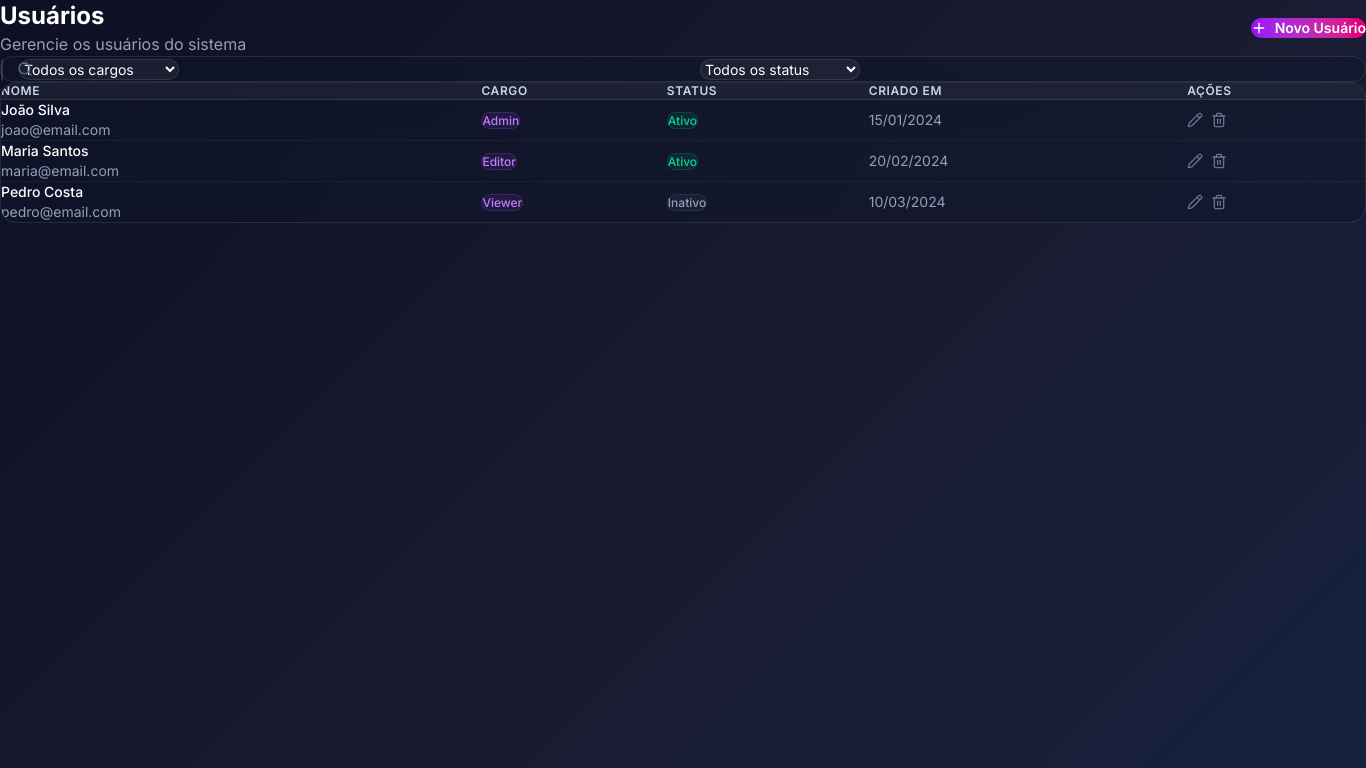
UsersPage › can cancel delete action
The image size is (1366, 768).
Expected: the text "João Silva" is shown, 1,101 -> 70,118
Click the button named "excluir": (1219, 120) 1211,112 -> 1227,128
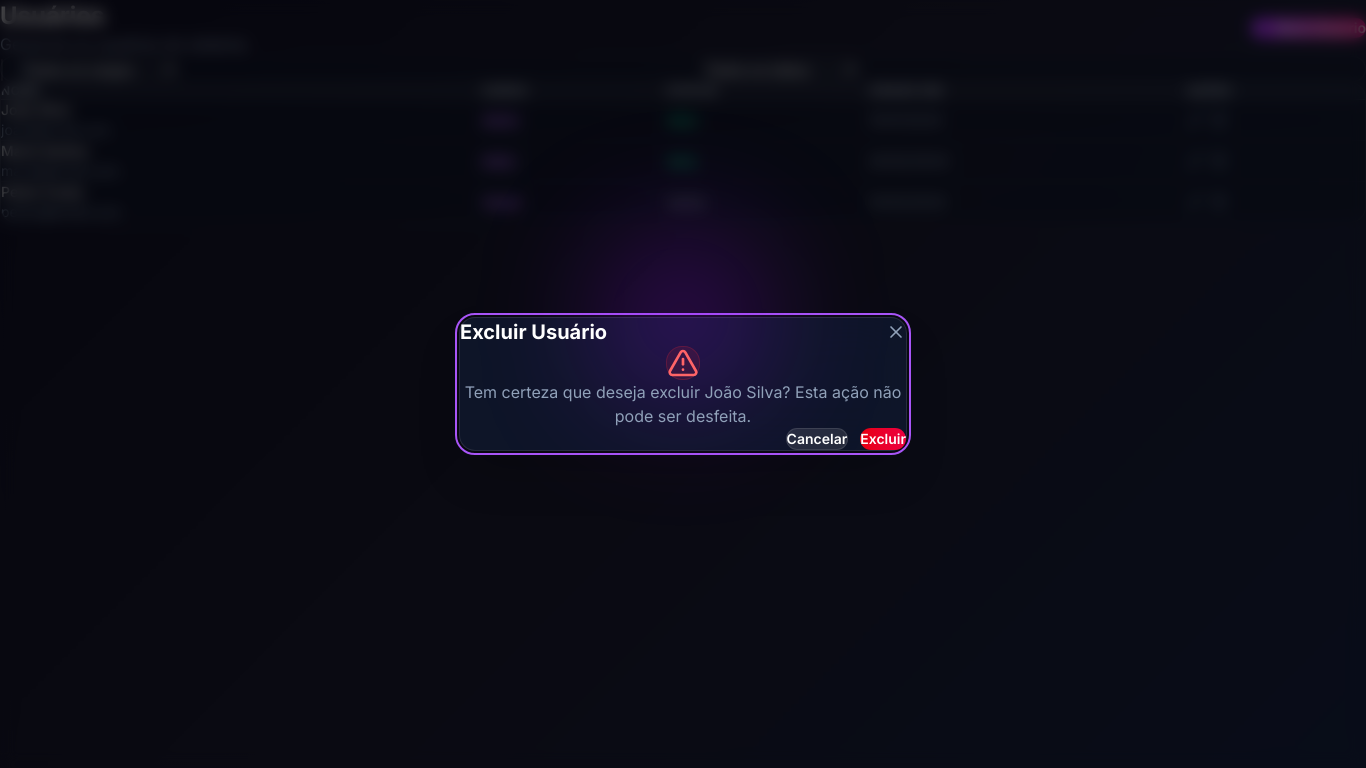
Expected: the heading "Excluir Usuário" is shown, 460,318 -> 607,346
Click the button "Cancelar": (817, 439) 786,428 -> 848,450
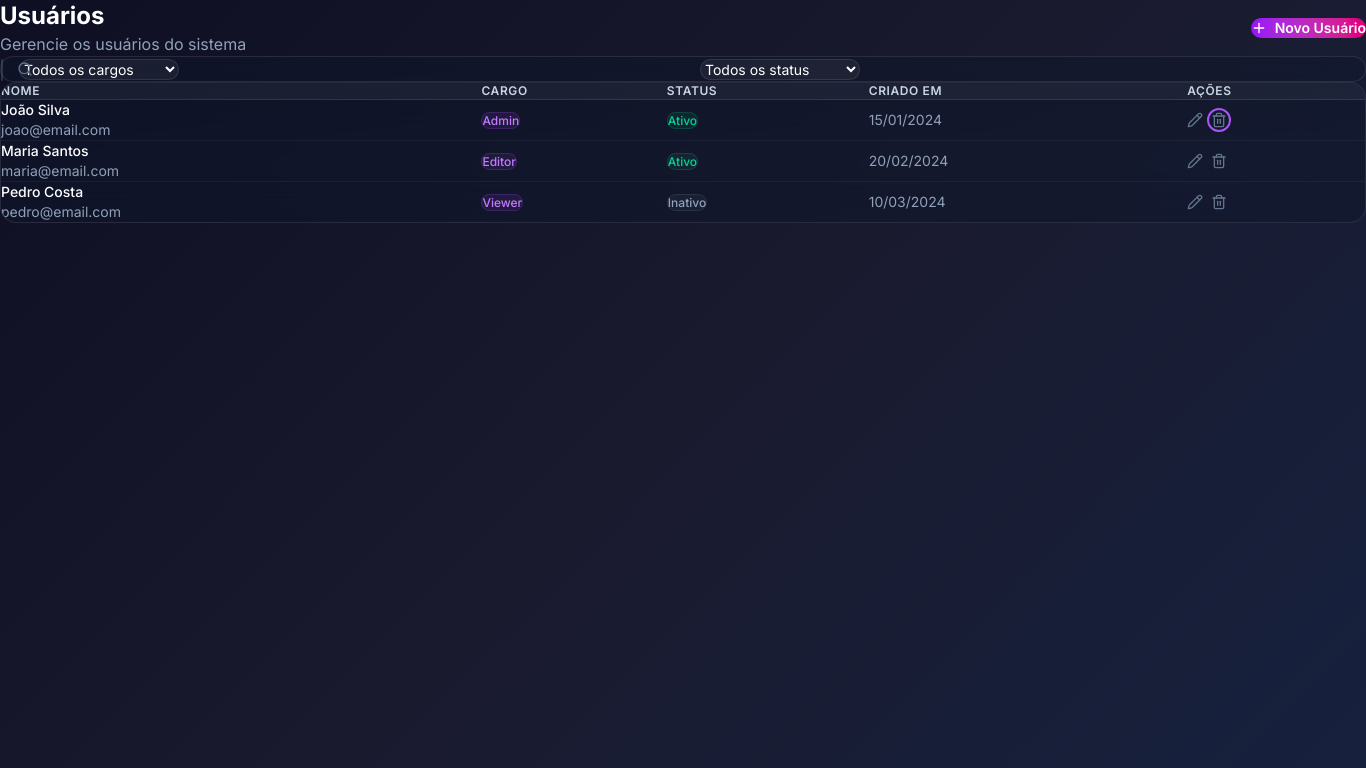
Expected: the heading "Excluir Usuário" is gone
